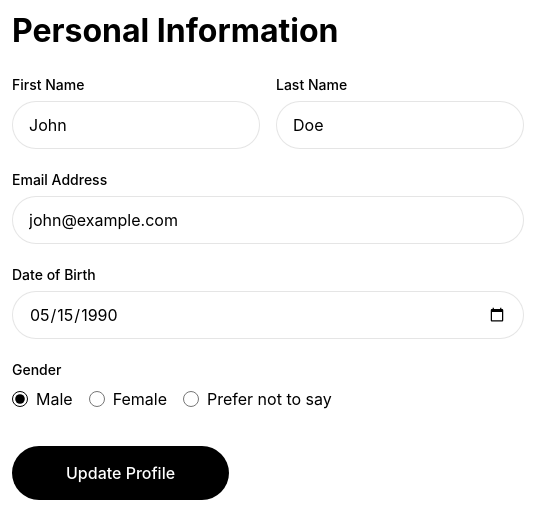
Scenario: ProfilePage › gender radio buttons work correctly
The image size is (541, 517).
Check: the text "Male" is shown, box [36, 388, 73, 410]
Check: the radio button showing "male" is checked, box [12, 391, 28, 407]
# Click female
Click the radio button showing "female" at [97, 399], box [89, 391, 105, 407]
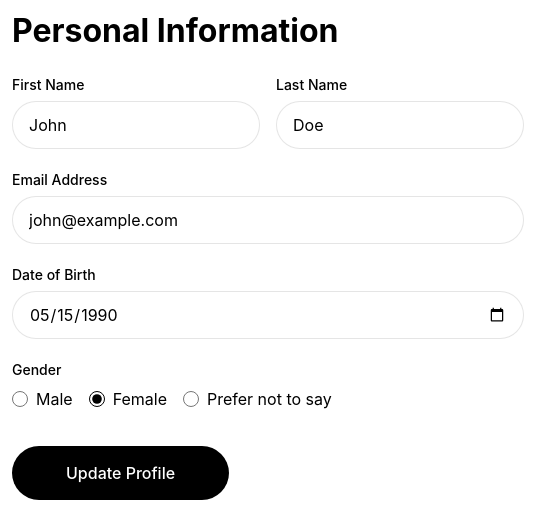
Check: the radio button showing "female" is checked, box [89, 391, 105, 407]
Check: the radio button showing "male" is not checked, box [12, 391, 28, 407]
